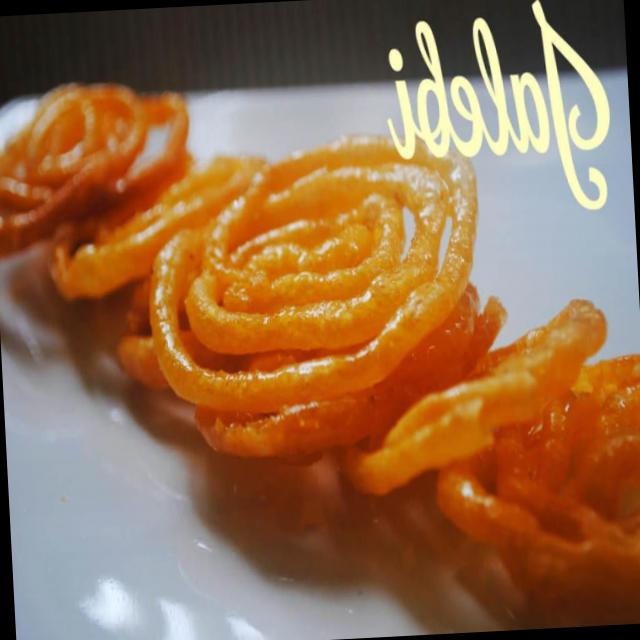jalebi: (0, 52, 640, 640)
